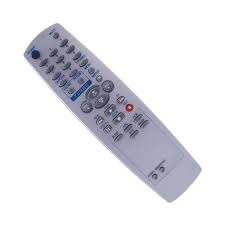remote control: (24, 18, 205, 209)
